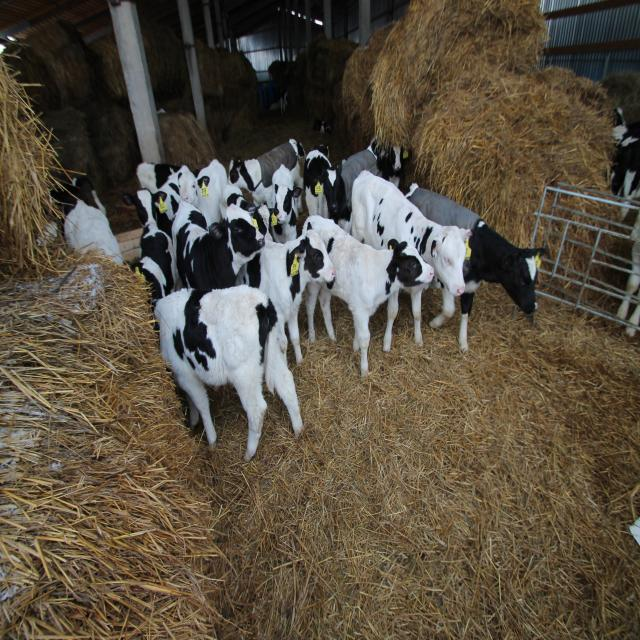cow: (153, 284, 303, 462), (405, 181, 549, 354), (348, 169, 474, 350), (300, 213, 435, 378), (235, 230, 336, 365), (170, 191, 271, 290), (229, 138, 307, 207), (301, 146, 344, 227), (268, 163, 302, 247), (381, 139, 413, 183)
